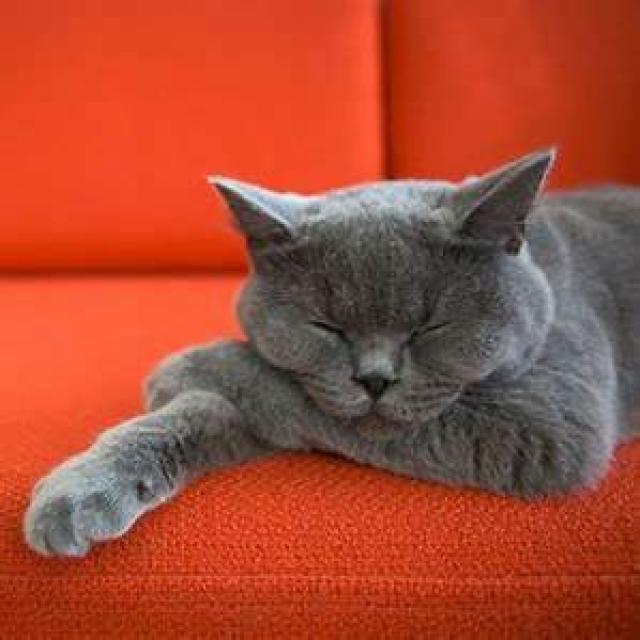animal: (19, 143, 638, 559)
